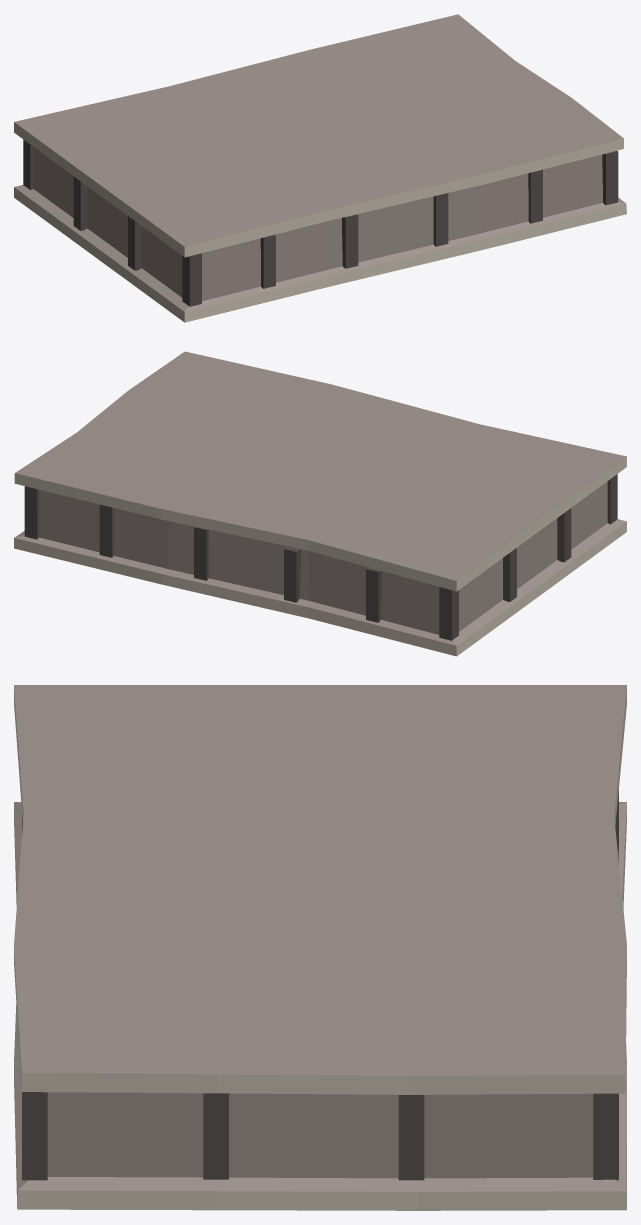
The model's file is Greek_Floor_Big.fbx.
3 views of the same model, one above another, from view 1: azimuth 30°, elevation 25°; view 2: azimuth 150°, elevation 25°; view 3: azimuth 270°, elevation 25° (orthographic). The views are drawn at different scales.
Visible parts, largest first — view 1: Greek_Floor_Big; view 2: Greek_Floor_Big; view 3: Greek_Floor_Big.
Boxes of the visible parts, box(x1,y1,x2,y2) form: Greek_Floor_Big: box(14, 14, 626, 322); Greek_Floor_Big: box(14, 351, 626, 656); Greek_Floor_Big: box(14, 685, 626, 1210).
Bounding box in the file's own units: 195 × 130 × 32.76.
